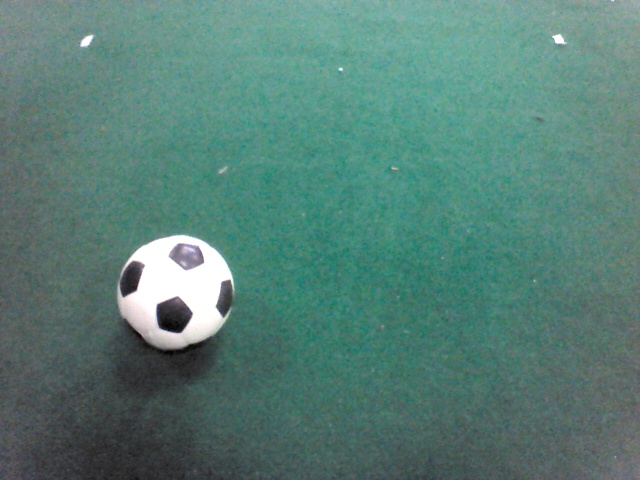ball: (113, 233, 238, 356)
